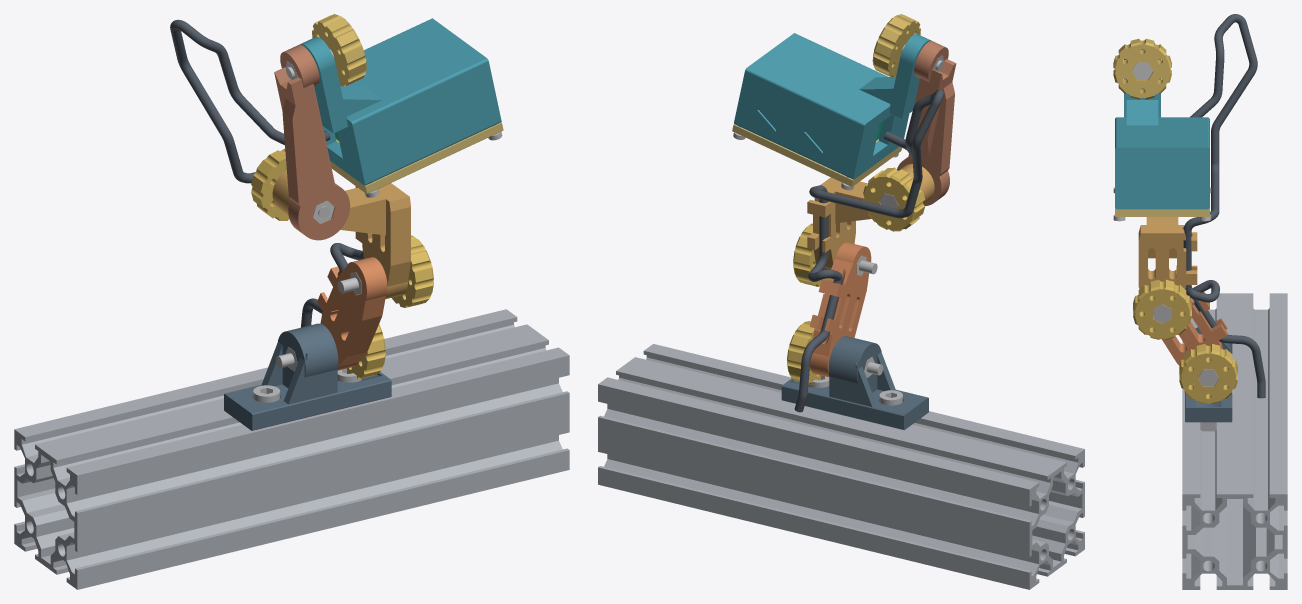
Rendered from COMPLETE_ASSEMBLY.glb.
3 renders of one model, left to right at view 1: azimuth 30°, elevation 25°; view 2: azimuth 150°, elevation 25°; view 3: azimuth 270°, elevation 25°, orthographic. The views are drawn at different scales.
Parts seen in each view (by area): view 1: 4040_horizontal_reference, V010_relieved_camera_shell, V010_mount_plate, V010_wrist_adapter, V010_second_arm, V010_first_arm, V006_USB_outboard_cable_reference, M4_thumbwheel_wrist, V006_camera_bezel, M4_thumbwheel_camera_tilt, M4_thumbwheel_elbow_swing, M4_thumbwheel_base_roll; view 2: 4040_horizontal_reference, V010_relieved_camera_shell, V010_mount_plate, V006_USB_outboard_cable_reference, V010_wrist_adapter, V010_first_arm, V010_second_arm, M4_thumbwheel_camera_tilt, M4_thumbwheel_wrist, V006_camera_bezel, M4_thumbwheel_base_roll, M4_thumbwheel_elbow_swing; view 3: 4040_horizontal_reference, V010_relieved_camera_shell, V006_USB_outboard_cable_reference, V010_second_arm, M4_thumbwheel_elbow_swing, M4_thumbwheel_base_roll, M4_thumbwheel_wrist, V010_first_arm, V010_mount_plate, V006_camera_bezel, M4_bolt_wrist, M4_bolt_base_roll (+1 smaller).
Part boxes in pixels (x1,y1,x2,y2): 4040_horizontal_reference: (14,309,569,589); V010_relieved_camera_shell: (300,18,501,185); V010_mount_plate: (224,323,391,430); V010_wrist_adapter: (274,44,350,240); V010_second_arm: (272,171,410,299); V010_first_arm: (317,257,387,370); V006_USB_outboard_cable_reference: (170,19,363,327); M4_thumbwheel_wrist: (312,14,366,86); V006_camera_bezel: (330,122,503,193); M4_thumbwheel_camera_tilt: (251,148,289,220); M4_thumbwheel_elbow_swing: (391,235,433,307); M4_thumbwheel_base_roll: (347,324,385,379); 4040_horizontal_reference: (598,344,1084,589); V010_relieved_camera_shell: (734,33,931,179); V010_mount_plate: (781,336,928,430); V006_USB_outboard_cable_reference: (794,89,944,412); V010_wrist_adapter: (896,41,956,205); V010_first_arm: (809,242,871,377); V010_second_arm: (807,164,934,269); M4_thumbwheel_camera_tilt: (863,167,925,231); M4_thumbwheel_wrist: (872,14,920,77); V006_camera_bezel: (732,124,901,186); M4_thumbwheel_base_roll: (787,321,820,384); M4_thumbwheel_elbow_swing: (793,223,827,286); 4040_horizontal_reference: (1182,293,1287,589); V010_relieved_camera_shell: (1115,49,1209,209); V006_USB_outboard_cable_reference: (1183,14,1265,398); V010_second_arm: (1138,217,1197,289); M4_thumbwheel_elbow_swing: (1133,279,1191,339); M4_thumbwheel_base_roll: (1179,344,1237,403); M4_thumbwheel_wrist: (1113,38,1171,99); V010_first_arm: (1161,292,1227,365); V010_mount_plate: (1185,327,1232,422); V006_camera_bezel: (1115,208,1209,216); M4_bolt_wrist: (1132,62,1152,79); M4_bolt_base_roll: (1198,369,1219,386).
Bounding box in the file's own units: 180 × 186 × 66.16.
